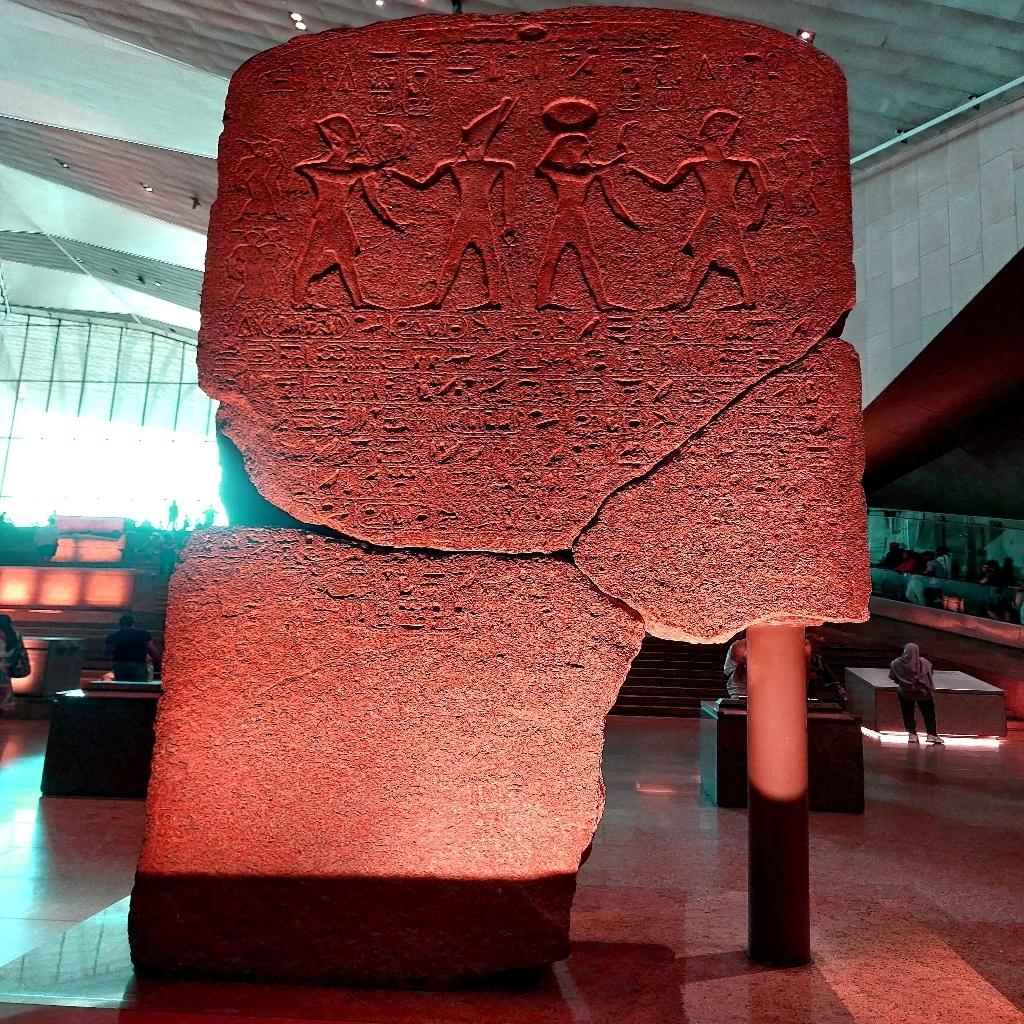Rhetorical Stela of King Ramesses ll: (126, 8, 874, 989)
